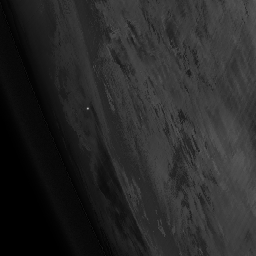Target: (85, 106, 90, 111)
